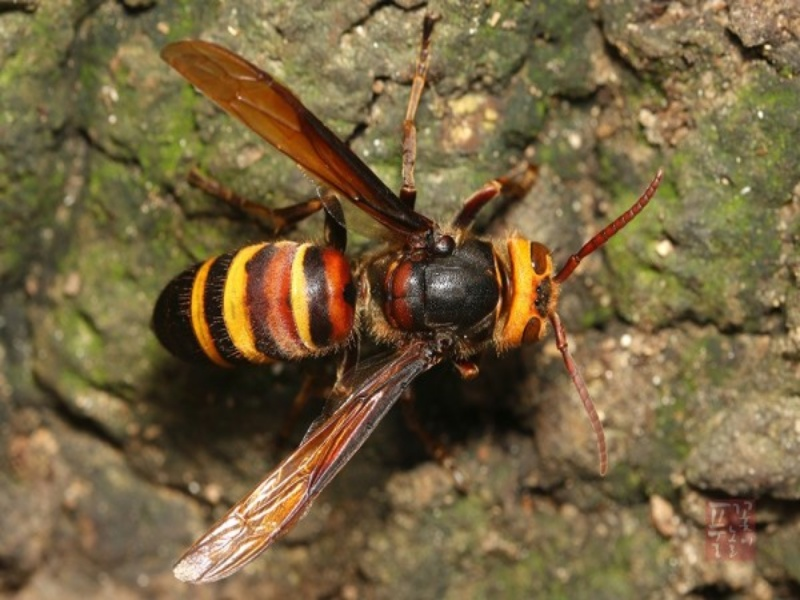asian_giant_hornet: (147, 16, 672, 588)
